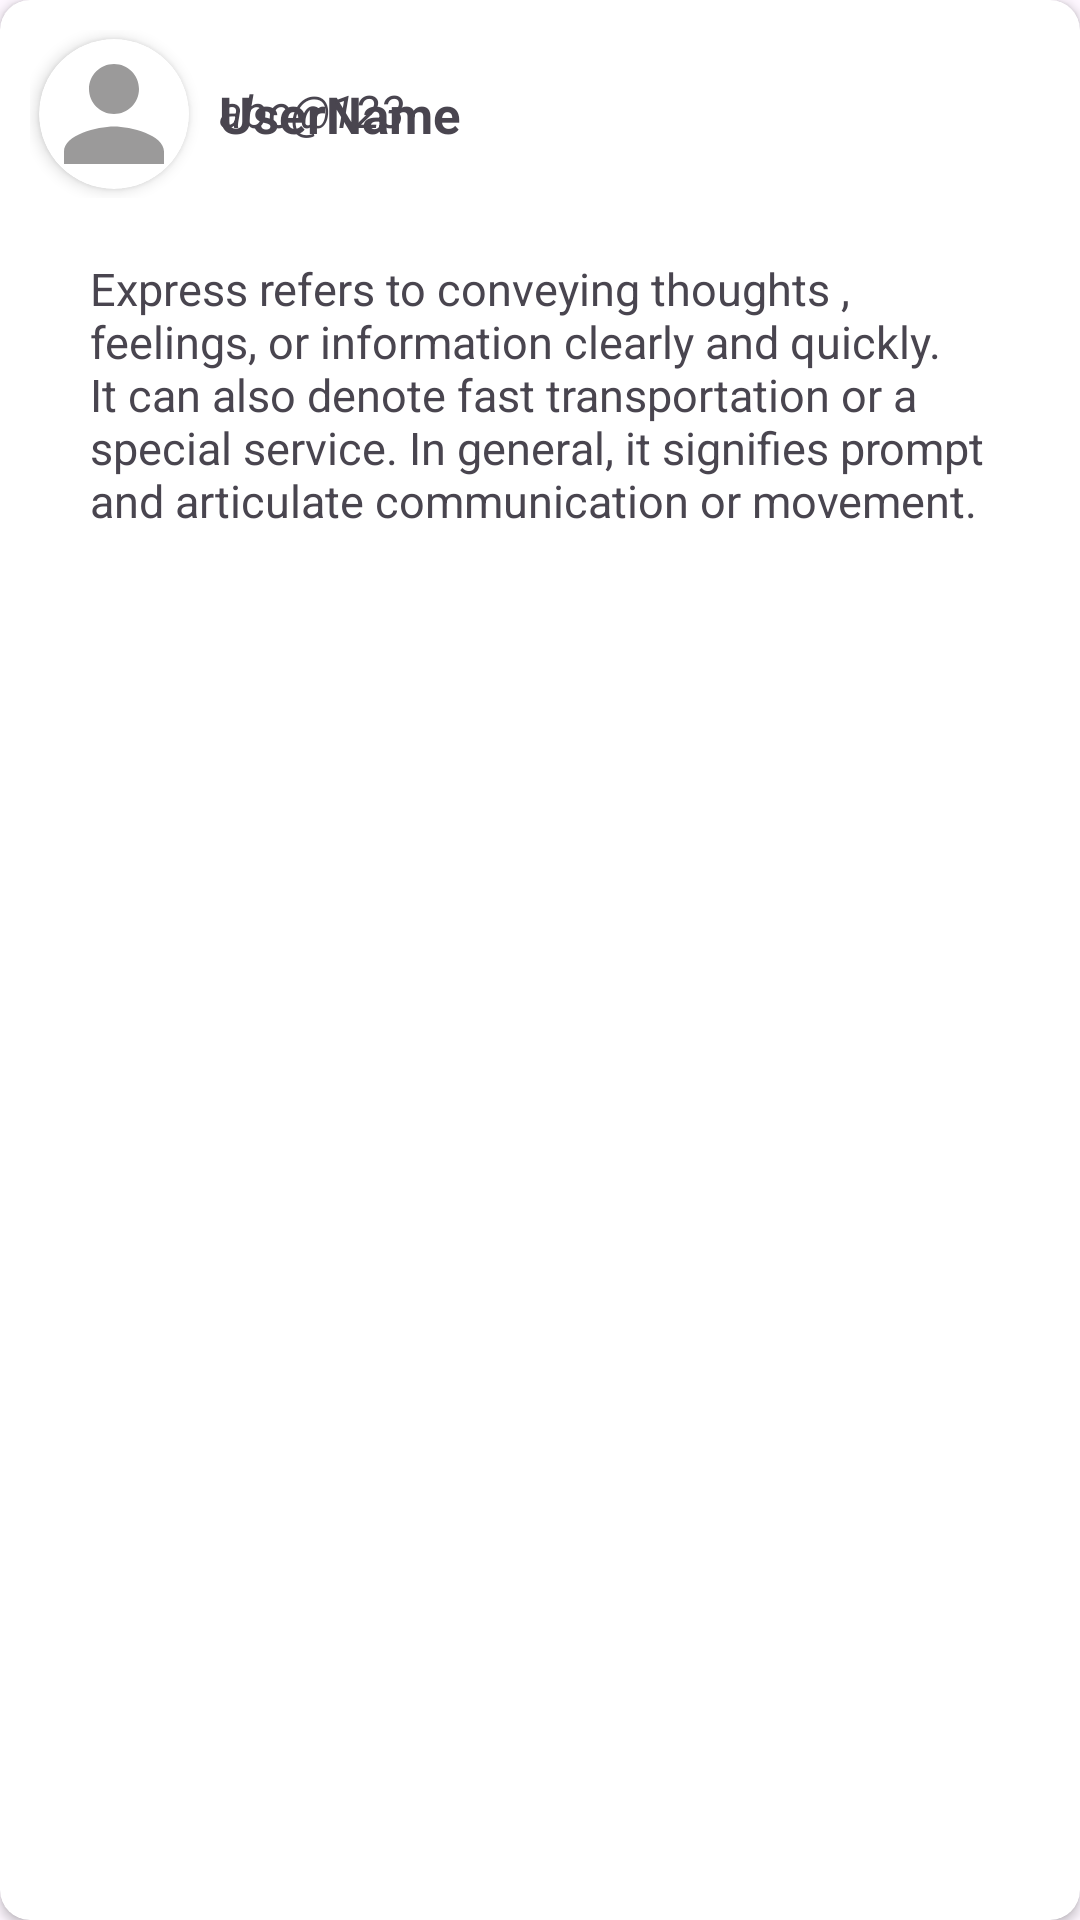

Locate icon controls on the screen. Image size 1080 × 1920, boxes as (x1, y1, x2, y2).
demoprofile: (39, 41, 164, 189)
